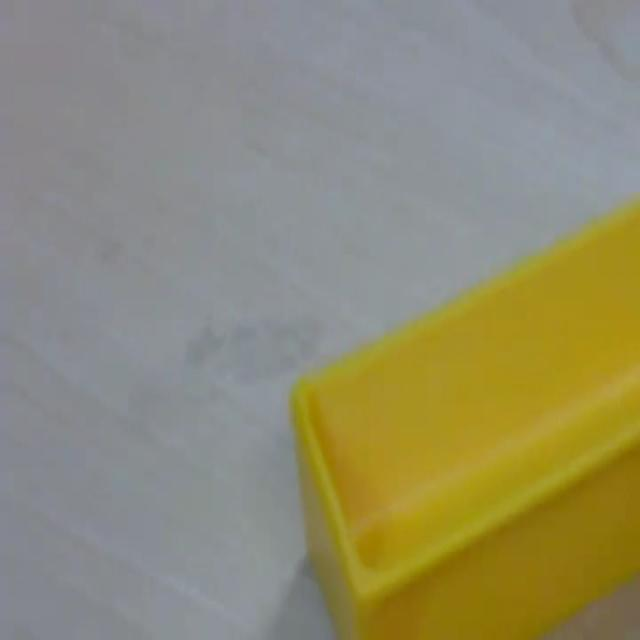yellow_block: (289, 192, 638, 636)
